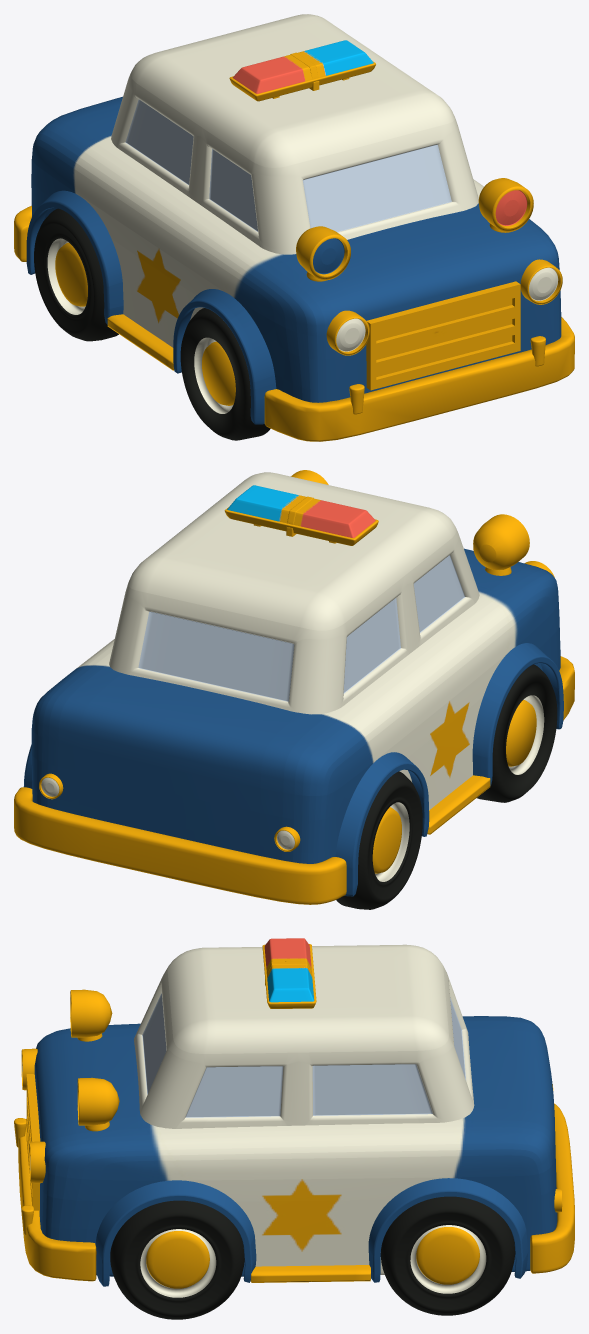
File: policecar@idle.fbx
The picture shows the model from 3 angles, top to bottom: view 1: azimuth 30°, elevation 25°; view 2: azimuth 150°, elevation 25°; view 3: azimuth 270°, elevation 25°; orthographic projection. The views are drawn at different scales.
Parts seen in each view (by area): view 1: policecar:polySurface208, policecar:polySurface209, policecar:polySurface217; view 2: policecar:polySurface208, policecar:polySurface217, policecar:polySurface209; view 3: policecar:polySurface208, policecar:polySurface223, policecar:polySurface224.
Part boxes in pixels (box(x1,y1,x2,y2)): policecar:polySurface208: box(14, 14, 574, 441); policecar:polySurface209: box(180, 308, 270, 440); policecar:polySurface217: box(34, 208, 118, 341); policecar:polySurface208: box(14, 470, 574, 904); policecar:polySurface217: box(336, 771, 422, 909); policecar:polySurface209: box(477, 664, 557, 802); policecar:polySurface208: box(14, 938, 574, 1286); policecar:polySurface223: box(110, 1200, 244, 1319); policecar:polySurface224: box(380, 1196, 515, 1315).
Size of the model in its own units: 7.1 by 6.05 by 10.75.
